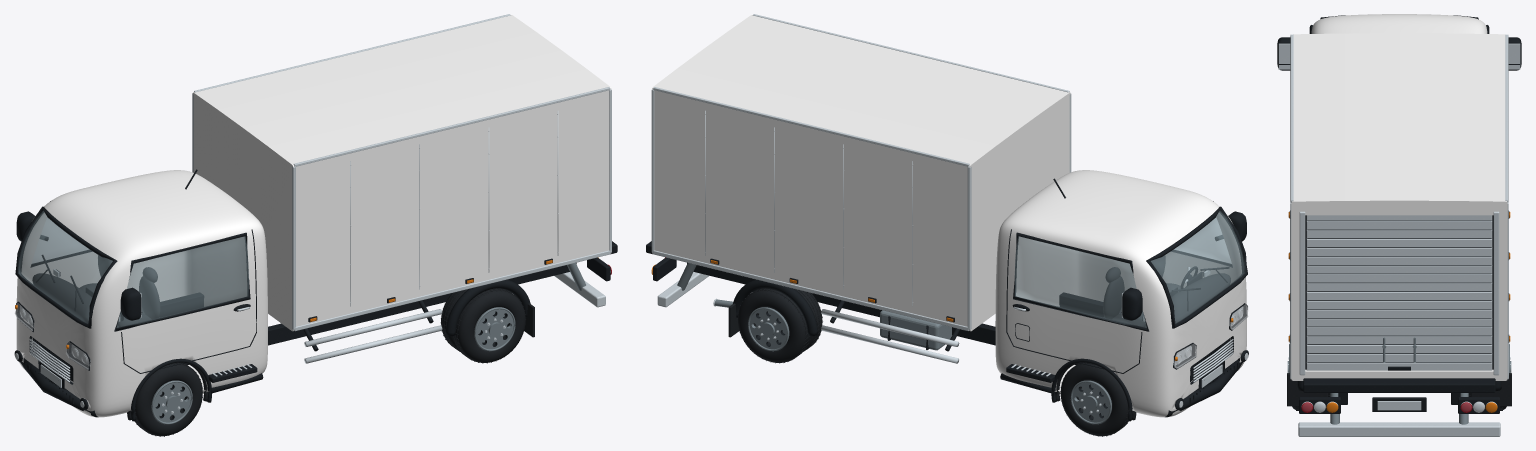
3 renders of one model, left to right at view 1: azimuth 30°, elevation 25°; view 2: azimuth 150°, elevation 25°; view 3: azimuth 270°, elevation 25°, orthographic. The views are drawn at different scales.
Visible parts, largest first — view 1: Separate hollow 12-station ruled dry freight box, Forward-control truck hollow 12-station cab, Truck cab door window curved transparent pane -1, Truck raked laminated windscreen curved laminated transparen, Commercial tire formed sidewalls.002, Commercial tire formed sidewalls, Truck ladder chassis side rail, Seated cargo lower aluminium edge, Truck raked laminated windscreen recessed rubber gasket, Sculpted dashboard, Seated cargo roof aluminium edge, Truck cab door window curved transparent pane 1 (+14 smaller); view 2: Separate hollow 12-station ruled dry freight box, Forward-control truck hollow 12-station cab, Truck cab door window curved transparent pane 1, Truck raked laminated windscreen curved laminated transparen, Commercial tire formed sidewalls.004, Commercial tire formed sidewalls.001, Seated cargo lower aluminium edge.001, Truck ladder chassis side rail.001, Truck raked laminated windscreen recessed rubber gasket, Truck fuel reservoir, Sculpted dashboard, Seated cargo roof aluminium edge.001 (+16 smaller); view 3: Separate hollow 12-station ruled dry freight box, Forward-control truck hollow 12-station cab, Rear under-ride protection bar, Rear load threshold step, Rear roll-up formed horizontal door slat.004, Rear roll-up formed horizontal door slat.005, Rear roll-up formed horizontal door slat.006, Rear roll-up formed horizontal door slat.009, Rear roll-up formed horizontal door slat.010, Rear roll-up formed horizontal door slat.011, Rear roll-up formed horizontal door slat.012, Rear roll-up formed horizontal door slat.015 (+31 smaller).
Part boxes in pixels (<box>): Separate hollow 12-station ruled dry freight box: <box>192,15,611,331</box>; Forward-control truck hollow 12-station cab: <box>16,170,267,417</box>; Truck cab door window curved transparent pane -1: <box>116,236,248,327</box>; Truck raked laminated windscreen curved laminated transparen: <box>18,211,112,323</box>; Commercial tire formed sidewalls.002: <box>453,288,525,362</box>; Commercial tire formed sidewalls: <box>134,362,202,436</box>; Truck ladder chassis side rail: <box>185,262,576,364</box>; Seated cargo lower aluminium edge: <box>294,250,610,331</box>; Truck raked laminated windscreen recessed rubber gasket: <box>15,206,117,328</box>; Sculpted dashboard: <box>32,273,91,322</box>; Seated cargo roof aluminium edge: <box>293,87,610,166</box>; Truck cab door window curved transparent pane 1: <box>32,218,88,263</box>; Separate hollow 12-station ruled dry freight box: <box>652,15,1070,331</box>; Forward-control truck hollow 12-station cab: <box>995,170,1246,417</box>; Truck cab door window curved transparent pane 1: <box>1014,236,1146,327</box>; Truck raked laminated windscreen curved laminated transparen: <box>1151,210,1244,323</box>; Commercial tire formed sidewalls.004: <box>738,288,810,362</box>; Commercial tire formed sidewalls.001: <box>1060,362,1129,436</box>; Seated cargo lower aluminium edge.001: <box>653,250,968,330</box>; Truck ladder chassis side rail.001: <box>687,262,1077,364</box>; Truck raked laminated windscreen recessed rubber gasket: <box>1146,206,1247,328</box>; Truck fuel reservoir: <box>880,310,952,350</box>; Sculpted dashboard: <box>1171,273,1230,322</box>; Seated cargo roof aluminium edge.001: <box>653,87,969,166</box>; Separate hollow 12-station ruled dry freight box: <box>1291,33,1507,380</box>; Forward-control truck hollow 12-station cab: <box>1311,14,1487,33</box>; Rear under-ride protection bar: <box>1298,422,1500,436</box>; Rear load threshold step: <box>1303,378,1495,392</box>; Rear roll-up formed horizontal door slat.004: <box>1306,327,1492,335</box>; Rear roll-up formed horizontal door slat.005: <box>1306,318,1492,326</box>; Rear roll-up formed horizontal door slat.006: <box>1306,309,1492,317</box>; Rear roll-up formed horizontal door slat.009: <box>1306,283,1492,291</box>; Rear roll-up formed horizontal door slat.010: <box>1306,274,1492,282</box>; Rear roll-up formed horizontal door slat.011: <box>1306,265,1492,273</box>; Rear roll-up formed horizontal door slat.012: <box>1306,256,1492,264</box>; Rear roll-up formed horizontal door slat.015: <box>1306,230,1492,238</box>.
Bounding box in the file's own units: 7.39 × 3.31 × 2.73.
10 materials, 9 textured.
